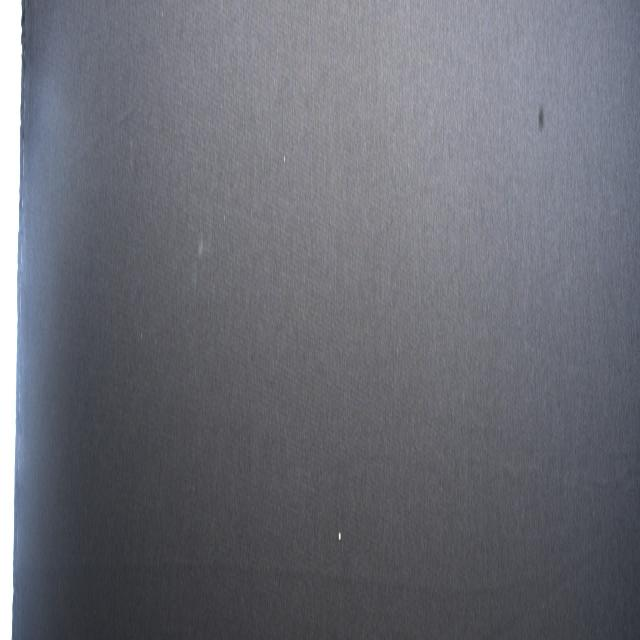crease: (102, 545, 493, 606)
